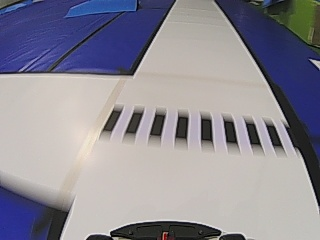CrossWalk: (97, 106, 282, 148)
